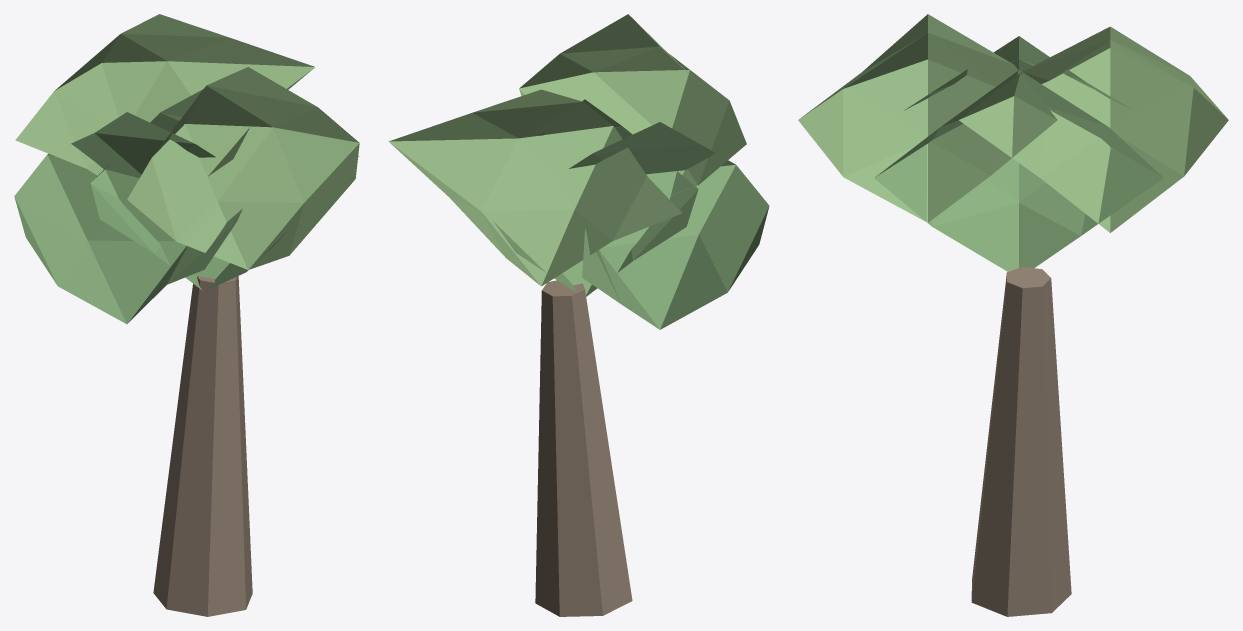
The model's file is broadleaf_v36.glb.
3 views of the same model, side by side, from view 1: azimuth 30°, elevation 25°; view 2: azimuth 150°, elevation 25°; view 3: azimuth 270°, elevation 25° (orthographic). The views are drawn at different scales.
Visible parts, largest first — view 1: lod0; view 2: lod0; view 3: lod0.
Boxes of the visible parts, x1,y1,x2,y2 form: lod0: (14,14,359,616); lod0: (388,14,769,616); lod0: (798,14,1228,616).
Size of what is drawn, in the model's own units: 2.72 by 4.4 by 2.95.
